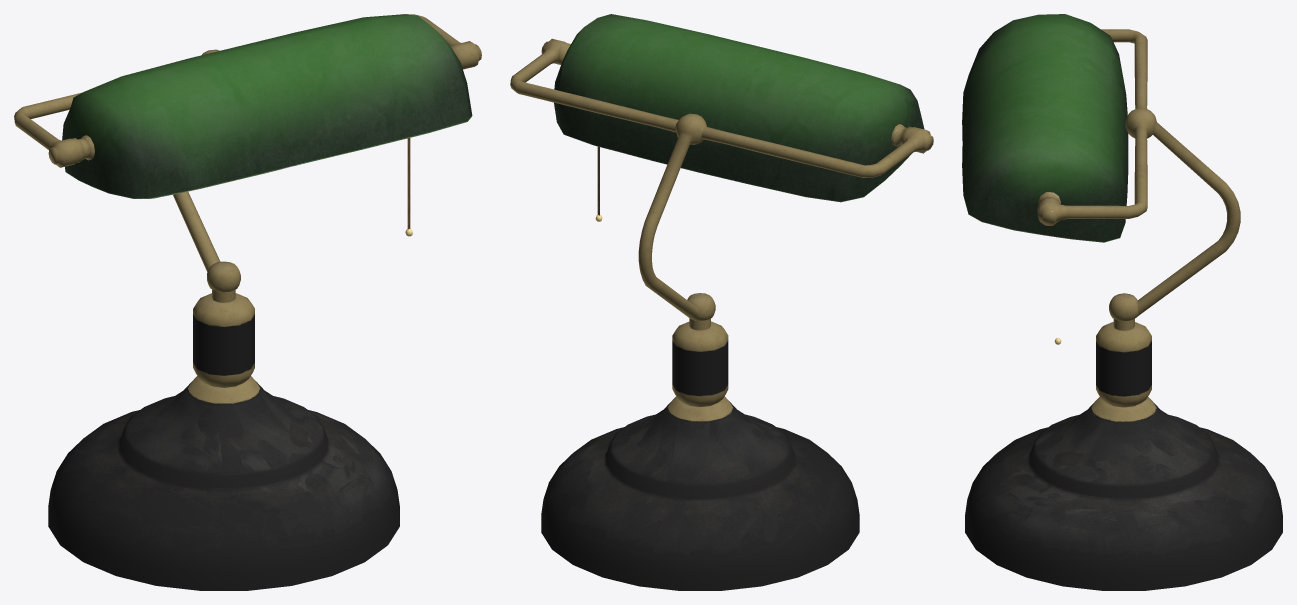
Rendered from Mesh_Desklamp.fbx.
3 views of the same model, side by side, from view 1: azimuth 30°, elevation 25°; view 2: azimuth 150°, elevation 25°; view 3: azimuth 270°, elevation 25° (orthographic). The views are drawn at different scales.
Parts seen in each view (by area): view 1: Mesh_Desklamp_LOD0; view 2: Mesh_Desklamp_LOD0; view 3: Mesh_Desklamp_LOD0.
Part boxes in pixels (x1,y1,x2,y2): Mesh_Desklamp_LOD0: (14,14,481,590); Mesh_Desklamp_LOD0: (510,14,933,590); Mesh_Desklamp_LOD0: (962,14,1282,590).
Size of what is drawn, in the model's own units: 0.3185 by 0.3532 by 0.2302.
